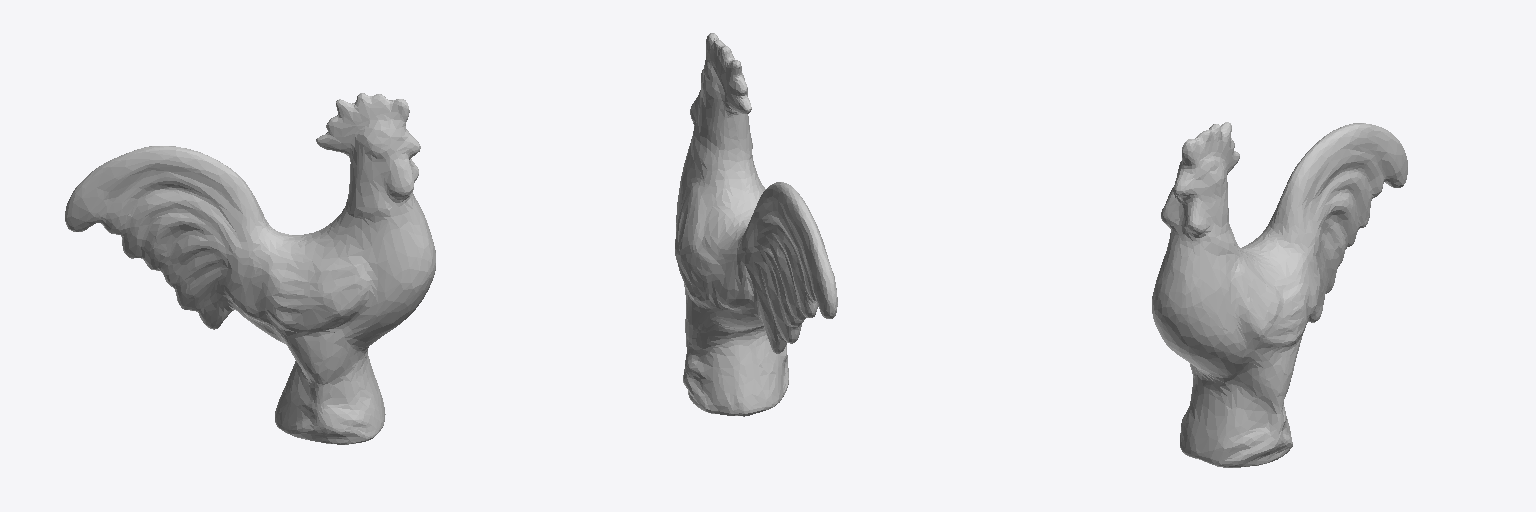
File: rooster.obj
3 views of the same model, side by side, from view 1: azimuth 30°, elevation 25°; view 2: azimuth 150°, elevation 25°; view 3: azimuth 270°, elevation 25° (orthographic).
Visible parts, largest first — view 1: lowPoly.001; view 2: lowPoly.001; view 3: lowPoly.001.
Boxes of the visible parts, x1,y1,x2,y2 form: lowPoly.001: [65, 93, 435, 444]; lowPoly.001: [675, 33, 837, 416]; lowPoly.001: [1152, 122, 1407, 467].
Bounding box in the file's own units: 2.86 × 3.55 × 2.45.